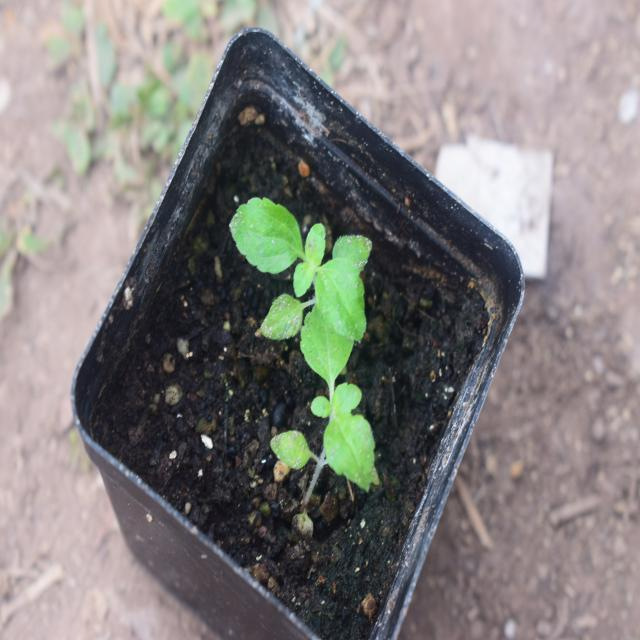billygoat_weed: (224, 178, 379, 354), (276, 298, 396, 504)
